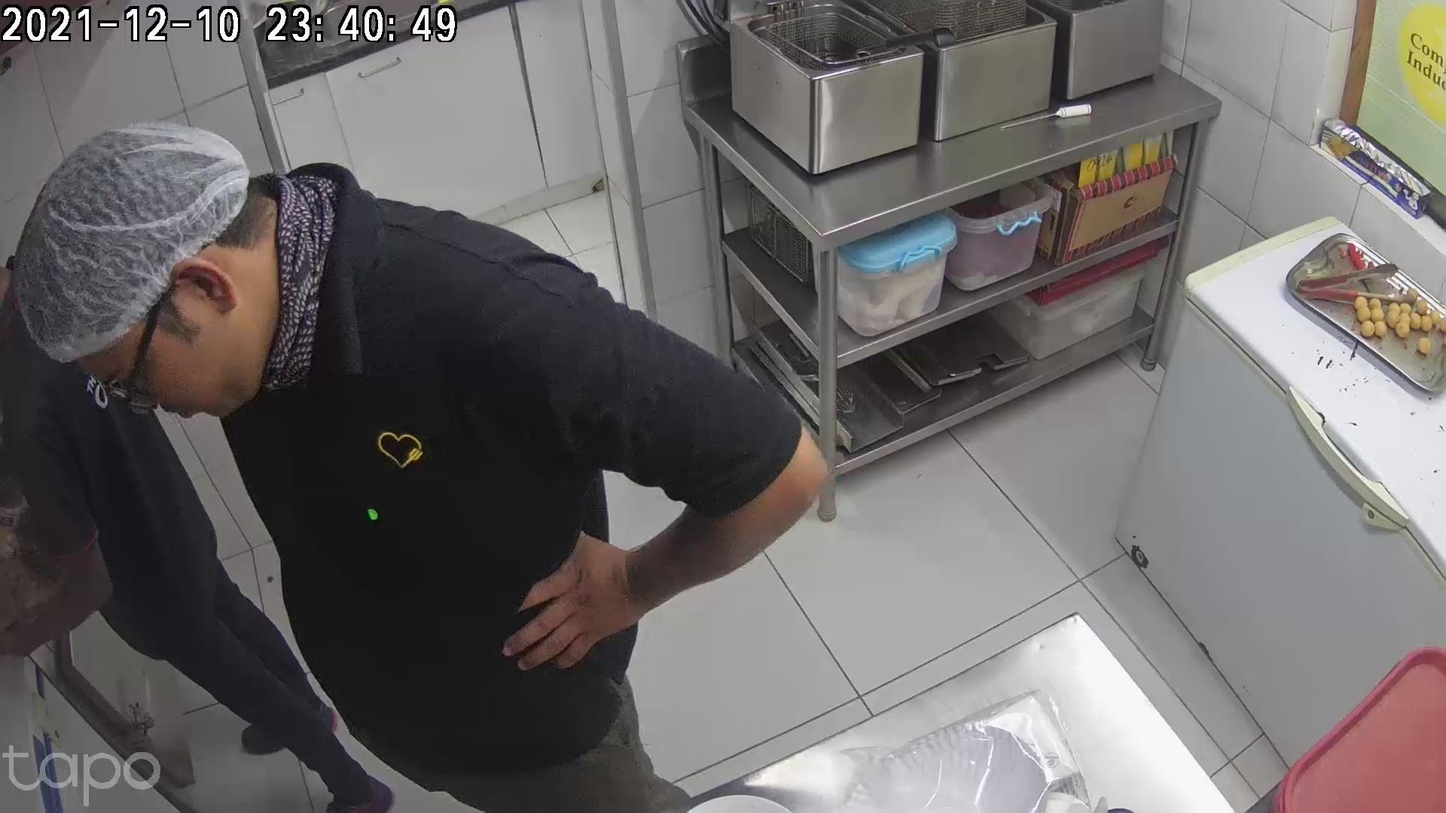no_gloves: (395, 623, 491, 755)
